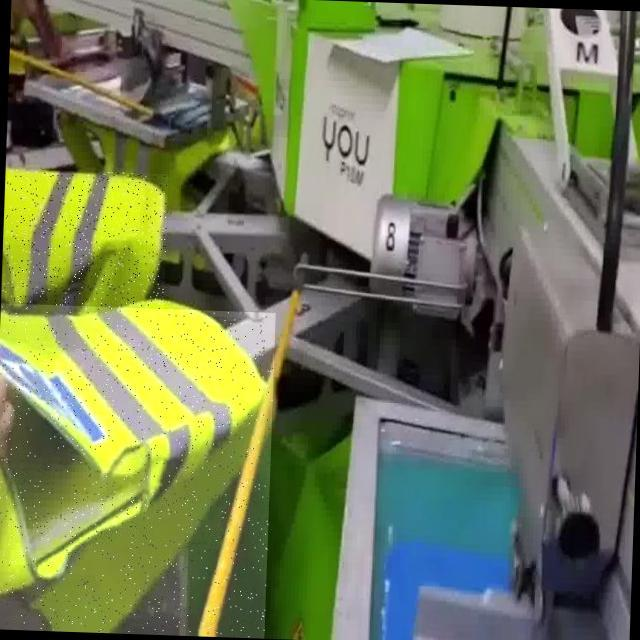Safety Vest: (0, 303, 275, 638), (1, 168, 168, 316)
